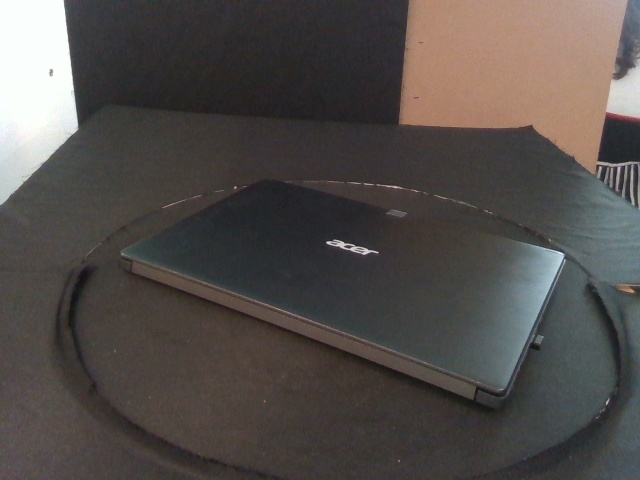laptop: (119, 178, 565, 408)
